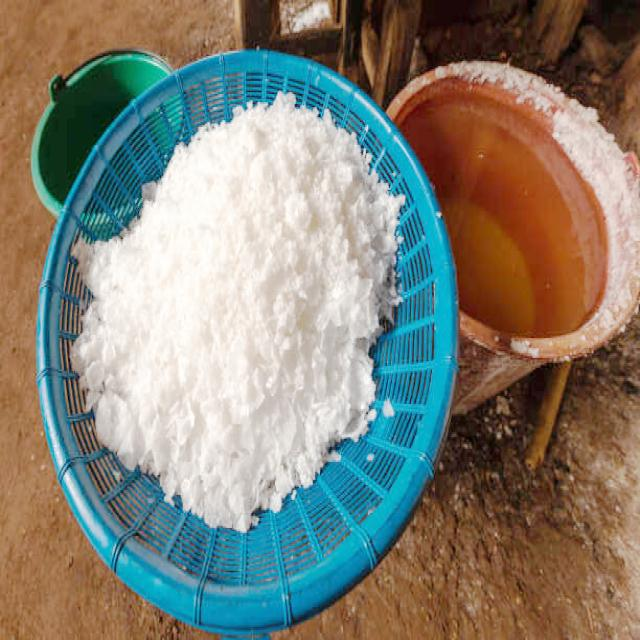rice: (71, 91, 405, 533)
